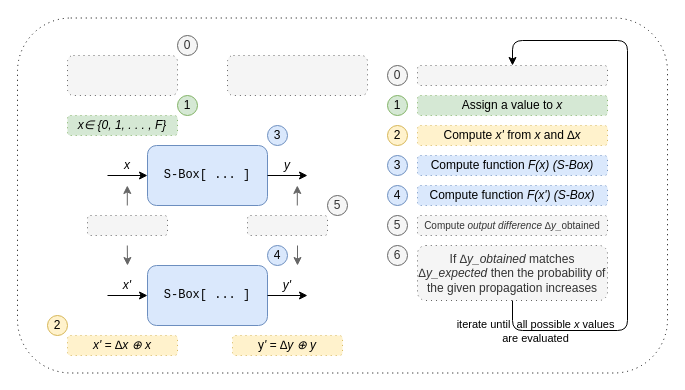
The diagram is 685 pixels wide and 390 high, and some of its shapes have lost their labels. Each missing label, with the centre of its shape:
"input and output differences are given" belongs at point 512,75.
"P [∆x → S-Box → ∆y] = P [5 → S-Box → A]" belongs at point 297,75.
"∆x = x ⊕ x'" belongs at point 127,225.
"∆x = x ⊕ x' = 5 ∆y = y ⊕ y' = A" belongs at point 122,75.
"∆y = y ⊕ y'" belongs at point 287,225.
